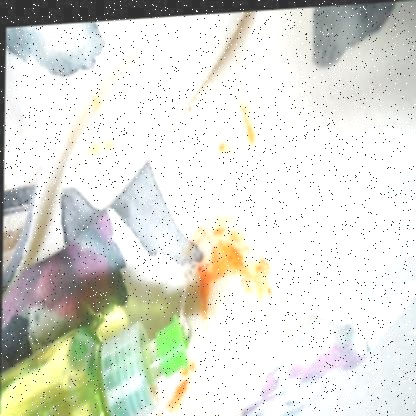kimchi: (191, 218, 279, 294), (233, 92, 264, 149), (167, 378, 190, 411), (196, 288, 219, 317), (86, 139, 112, 160), (214, 136, 231, 154), (188, 363, 198, 375), (90, 96, 98, 110)
